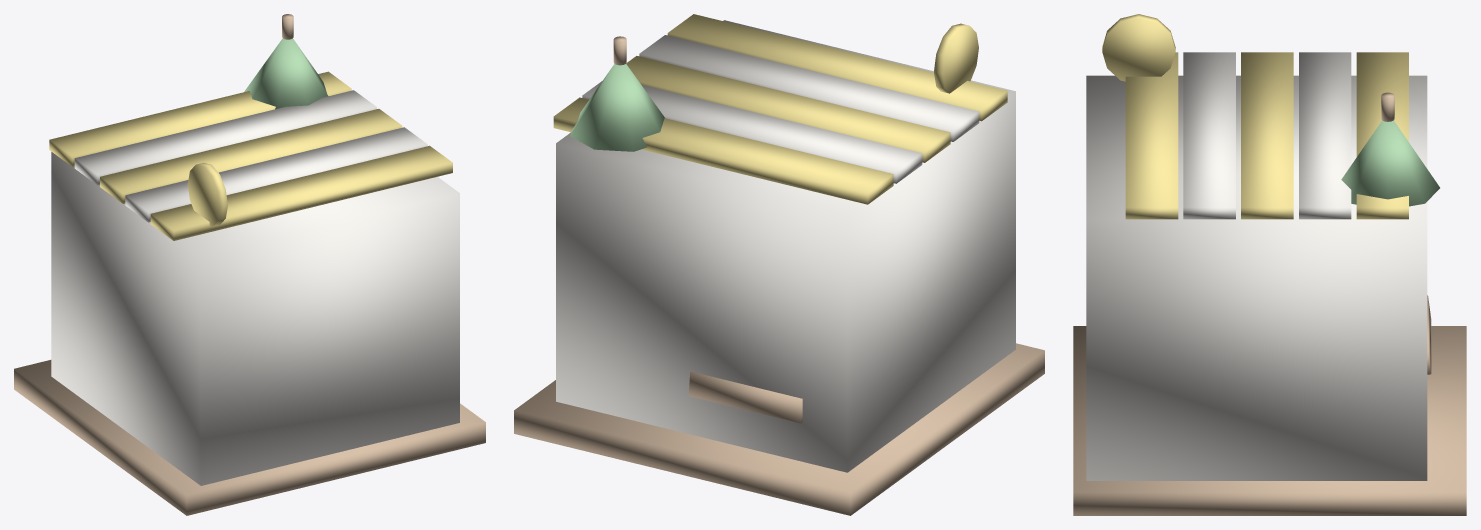
Rendered from fruit_market_lv3.glb.
3 renders of one model, left to right at view 1: azimuth 30°, elevation 25°; view 2: azimuth 150°, elevation 25°; view 3: azimuth 270°, elevation 25°, orthographic. The views are drawn at different scales.
Parts seen in each view (by area): view 1: shop_body, deck, awn_0, awn_3, awn_2, awn_1, awn_4, durian_sculpture, mango_sign; view 2: shop_body, deck, awn_4, awn_1, awn_2, awn_0, awn_3, durian_sculpture, crate1, mango_sign; view 3: shop_body, deck, awn_1, awn_2, awn_3, awn_0, awn_4, durian_sculpture, mango_sign.
Boxes of the visible parts, x1,y1,x2,y2 form: shop_body: [51, 152, 459, 485]; deck: [14, 360, 485, 515]; awn_0: [150, 145, 452, 240]; awn_3: [74, 90, 376, 185]; awn_2: [100, 109, 402, 203]; awn_1: [125, 127, 427, 222]; awn_4: [49, 71, 351, 166]; durian_sculpture: [244, 38, 328, 109]; mango_sign: [187, 162, 227, 226]; shop_body: [556, 20, 1015, 472]; deck: [514, 343, 1044, 515]; awn_4: [553, 97, 893, 204]; awn_1: [639, 35, 979, 141]; awn_2: [626, 56, 950, 162]; awn_0: [667, 14, 1007, 121]; awn_3: [582, 81, 922, 183]; durian_sculpture: [570, 64, 664, 151]; crate1: [688, 371, 802, 423]; mango_sign: [934, 23, 978, 93]; shop_body: [1086, 75, 1427, 480]; deck: [1073, 326, 1466, 515]; awn_1: [1183, 52, 1235, 219]; awn_2: [1241, 52, 1293, 219]; awn_3: [1299, 52, 1351, 219]; awn_0: [1125, 52, 1178, 219]; awn_4: [1356, 52, 1408, 219]; durian_sculpture: [1341, 120, 1439, 206]; mango_sign: [1102, 14, 1175, 81].
Bounding box in the file's own units: 1.5 × 1.63 × 1.5.
